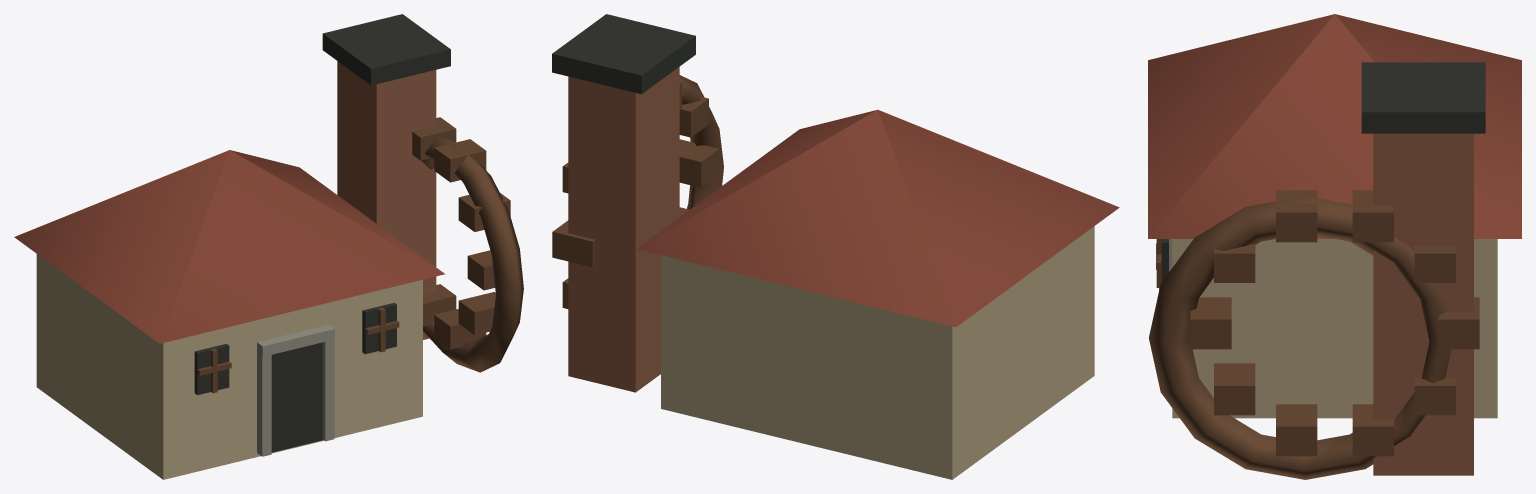
The model's file is custom-imp-sawmill.glb.
3 views of the same model, side by side, from view 1: azimuth 30°, elevation 25°; view 2: azimuth 150°, elevation 25°; view 3: azimuth 270°, elevation 25° (orthographic). The views are drawn at different scales.
Visible parts, largest first — view 1: custom-imp-sawmill; view 2: custom-imp-sawmill; view 3: custom-imp-sawmill.
Part boxes in pixels (<box>): custom-imp-sawmill: <box>14,14,523,479</box>; custom-imp-sawmill: <box>552,14,1119,479</box>; custom-imp-sawmill: <box>1148,14,1521,479</box>.
Bounding box in the file's own units: 1 × 0.748 × 0.6712.
